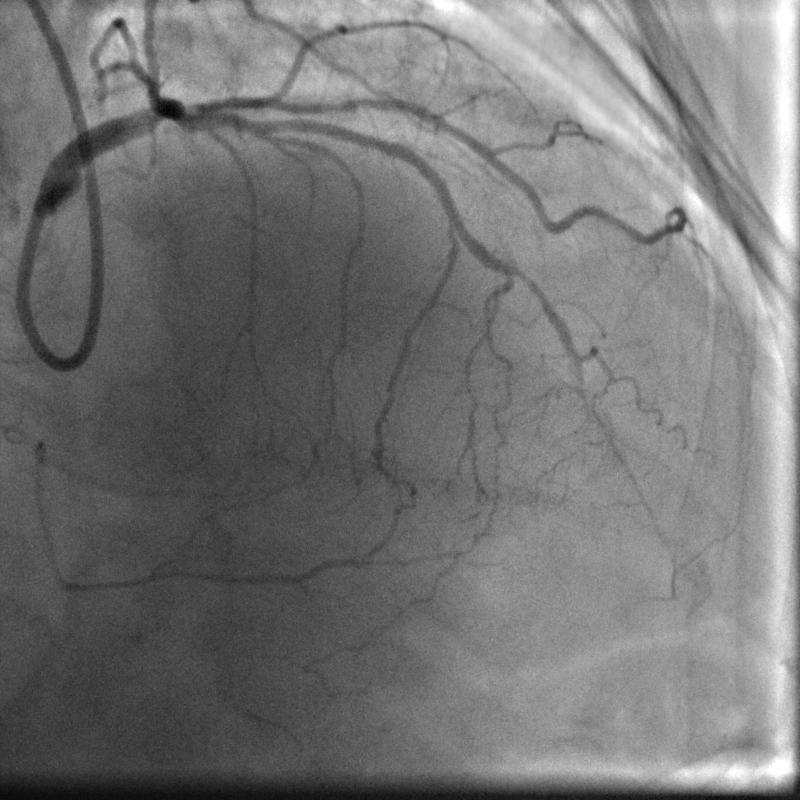Stenosis: (123, 88, 170, 139)
